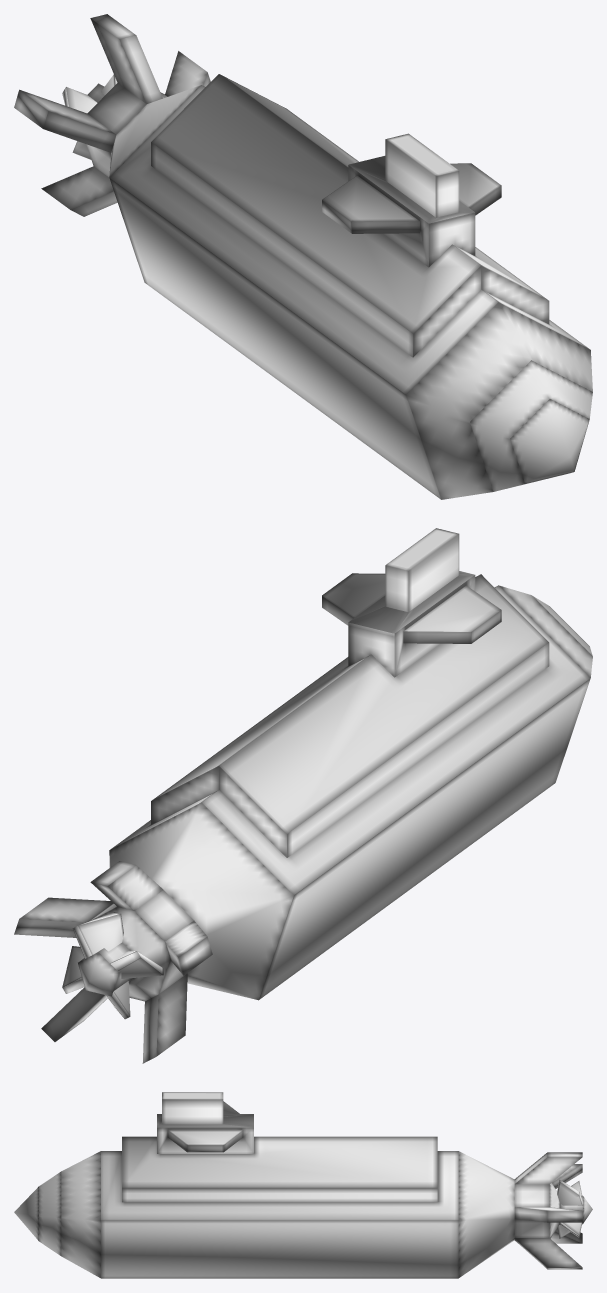
File: Submarine-01.fbx
The picture shows the model from 3 angles, top to bottom: view 1: azimuth 30°, elevation 25°; view 2: azimuth 150°, elevation 25°; view 3: azimuth 270°, elevation 25°; orthographic projection. The views are drawn at different scales.
Visible parts, largest first — view 1: Submarine-01, Submarine-01-Engine; view 2: Submarine-01, Submarine-01-Engine; view 3: Submarine-01, Submarine-01-Engine.
Part boxes in pixels (bbox=[...]): Submarine-01: bbox=[14, 14, 592, 499]; Submarine-01-Engine: bbox=[62, 74, 117, 159]; Submarine-01: bbox=[14, 528, 592, 1063]; Submarine-01-Engine: bbox=[62, 912, 163, 1019]; Submarine-01: bbox=[14, 1092, 592, 1278]; Submarine-01-Engine: bbox=[557, 1180, 582, 1238].
Size of the model in its own units: 0.4438 by 0.6321 by 2.
